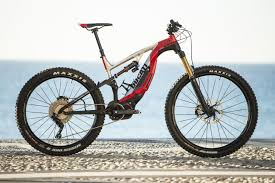bicycle: (15, 16, 263, 163)
